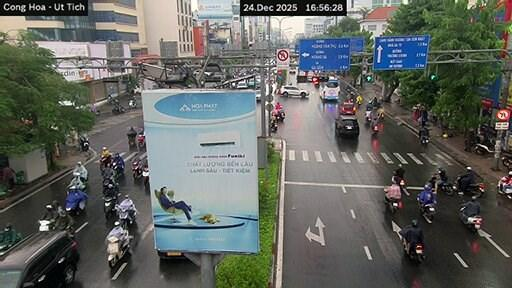motorbike: (107, 230, 130, 267), (65, 191, 87, 214), (115, 204, 136, 228), (460, 207, 481, 231), (0, 231, 21, 255), (403, 243, 424, 262), (103, 193, 118, 219), (463, 183, 484, 197), (67, 178, 86, 192), (497, 179, 511, 198), (420, 203, 435, 220), (102, 178, 118, 193), (386, 198, 401, 213), (438, 181, 454, 195), (474, 143, 494, 154), (132, 157, 142, 178), (112, 161, 123, 178), (100, 154, 111, 171), (501, 151, 511, 169), (38, 220, 54, 231), (79, 135, 89, 151), (398, 178, 408, 194), (273, 108, 285, 121), (142, 165, 148, 186), (112, 104, 124, 114), (137, 134, 145, 148), (90, 104, 100, 115), (269, 121, 277, 132), (127, 135, 135, 146), (128, 98, 136, 109), (107, 94, 114, 105), (420, 136, 429, 143), (372, 124, 378, 134)
